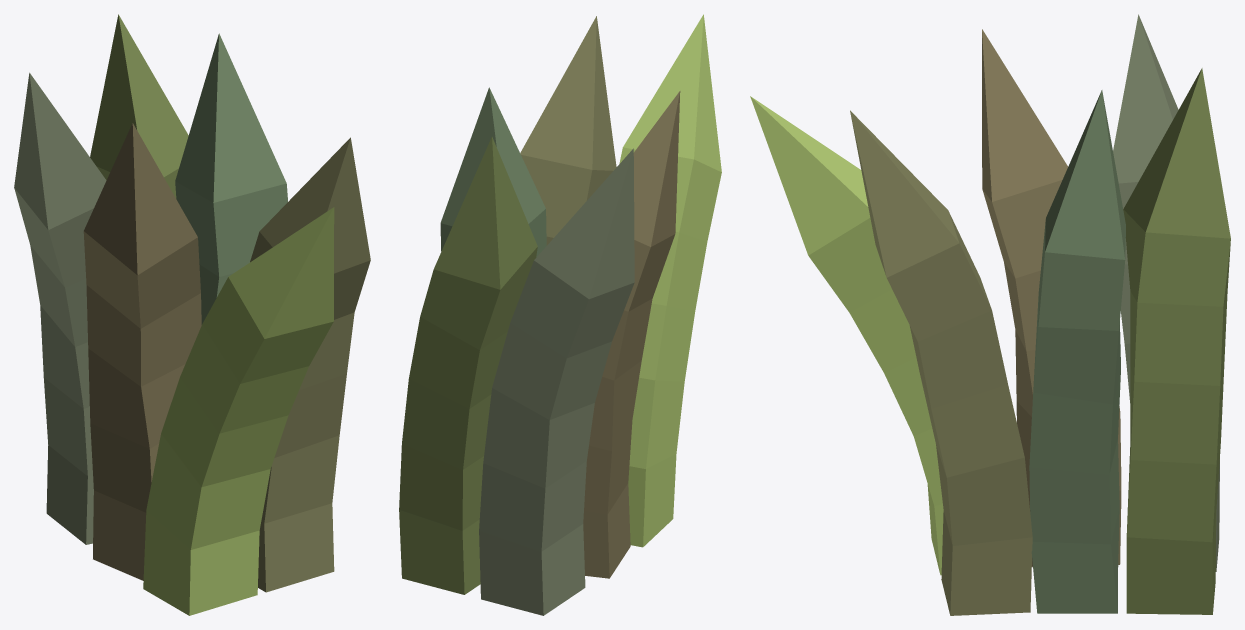
File: V_Grama3.fbx
The picture shows the model from 3 angles, left to right: view 1: azimuth 30°, elevation 25°; view 2: azimuth 150°, elevation 25°; view 3: azimuth 270°, elevation 25°; orthographic projection. The views are drawn at different scales.
Visible parts, largest first — view 1: Cube.001; view 2: Cube.001; view 3: Cube.001.
Boxes of the visible parts, x1,y1,x2,y2 form: Cube.001: (14, 14, 370, 615); Cube.001: (399, 14, 721, 615); Cube.001: (750, 14, 1230, 615).
Bounding box in the file's own units: 139 × 301 × 259.
